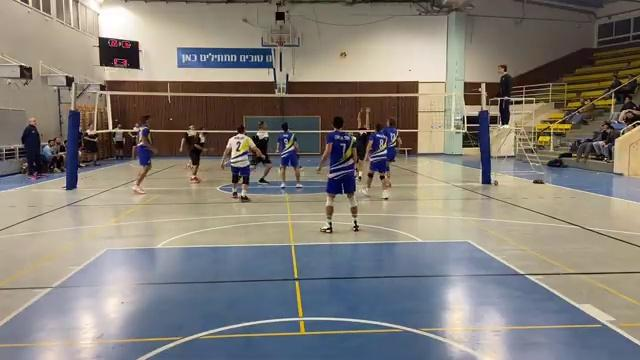ball: (338, 52, 349, 62)
